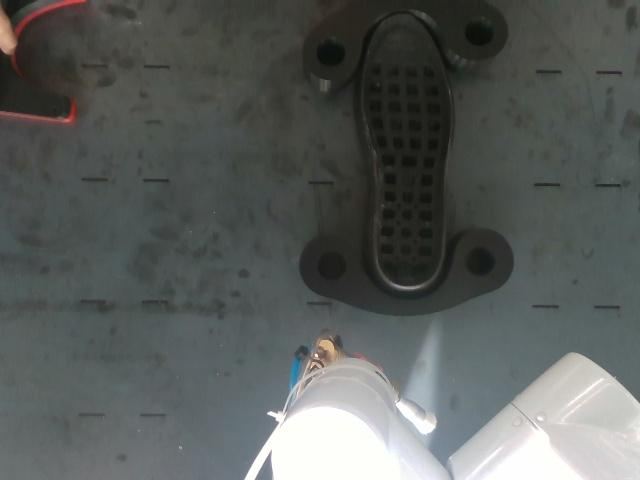shoes: (362, 14, 451, 287)
